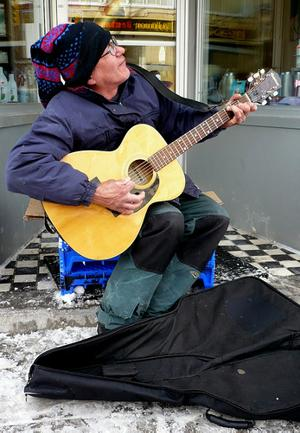person: (6, 22, 258, 337)
